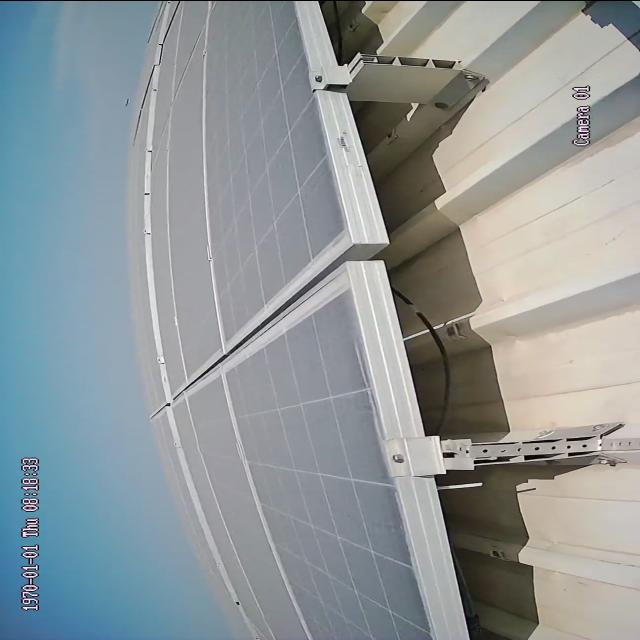interior panel: (182, 237, 342, 401)
outher panel: (294, 0, 640, 640)
